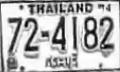1: (72, 16, 77, 50)
2: (23, 17, 38, 51), (99, 16, 113, 50)
4: (51, 16, 65, 50)
7: (7, 16, 22, 52)
8: (83, 16, 97, 50)
SRI: (42, 52, 82, 70)
